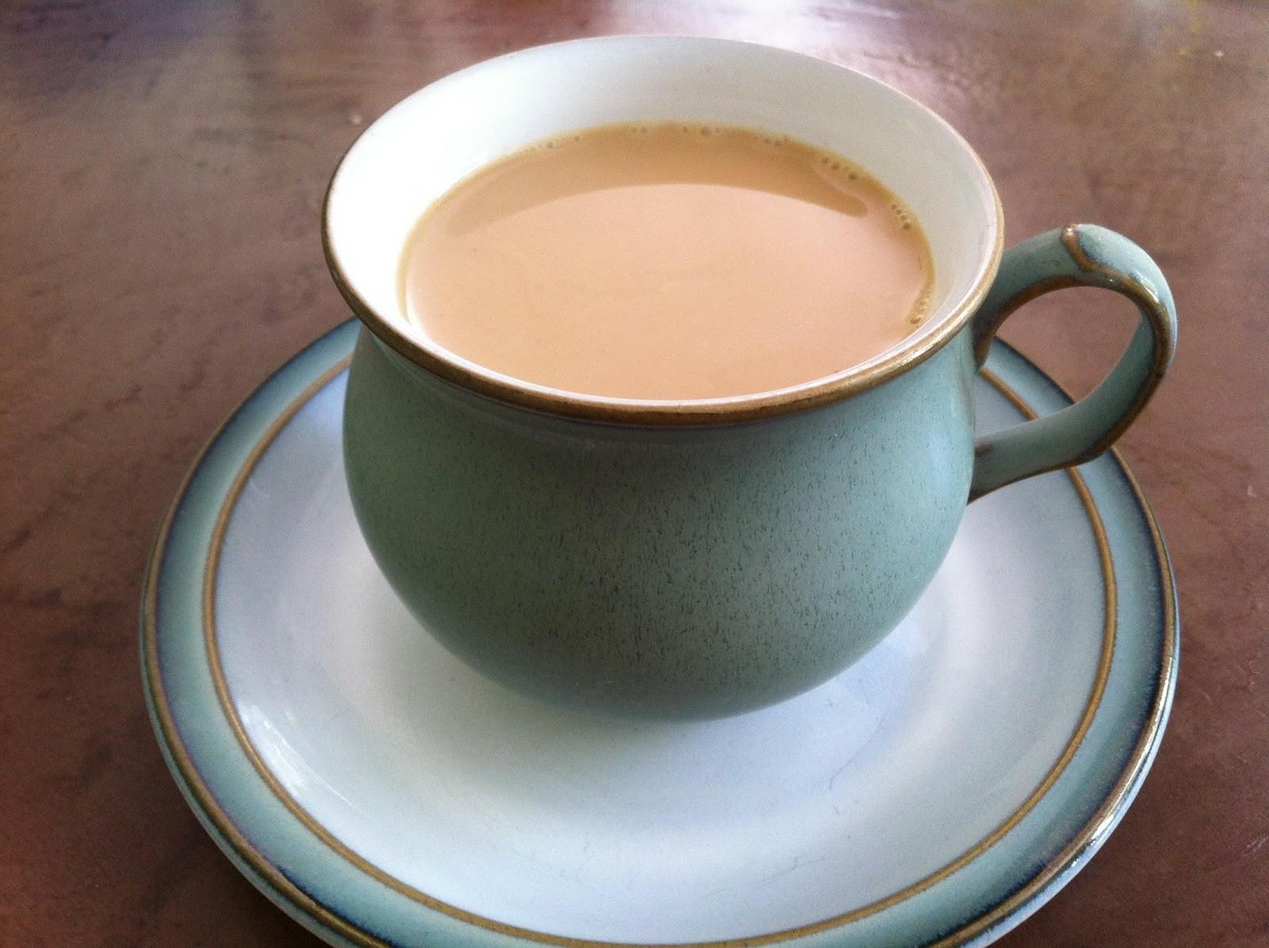Chai: (403, 120, 941, 401)
